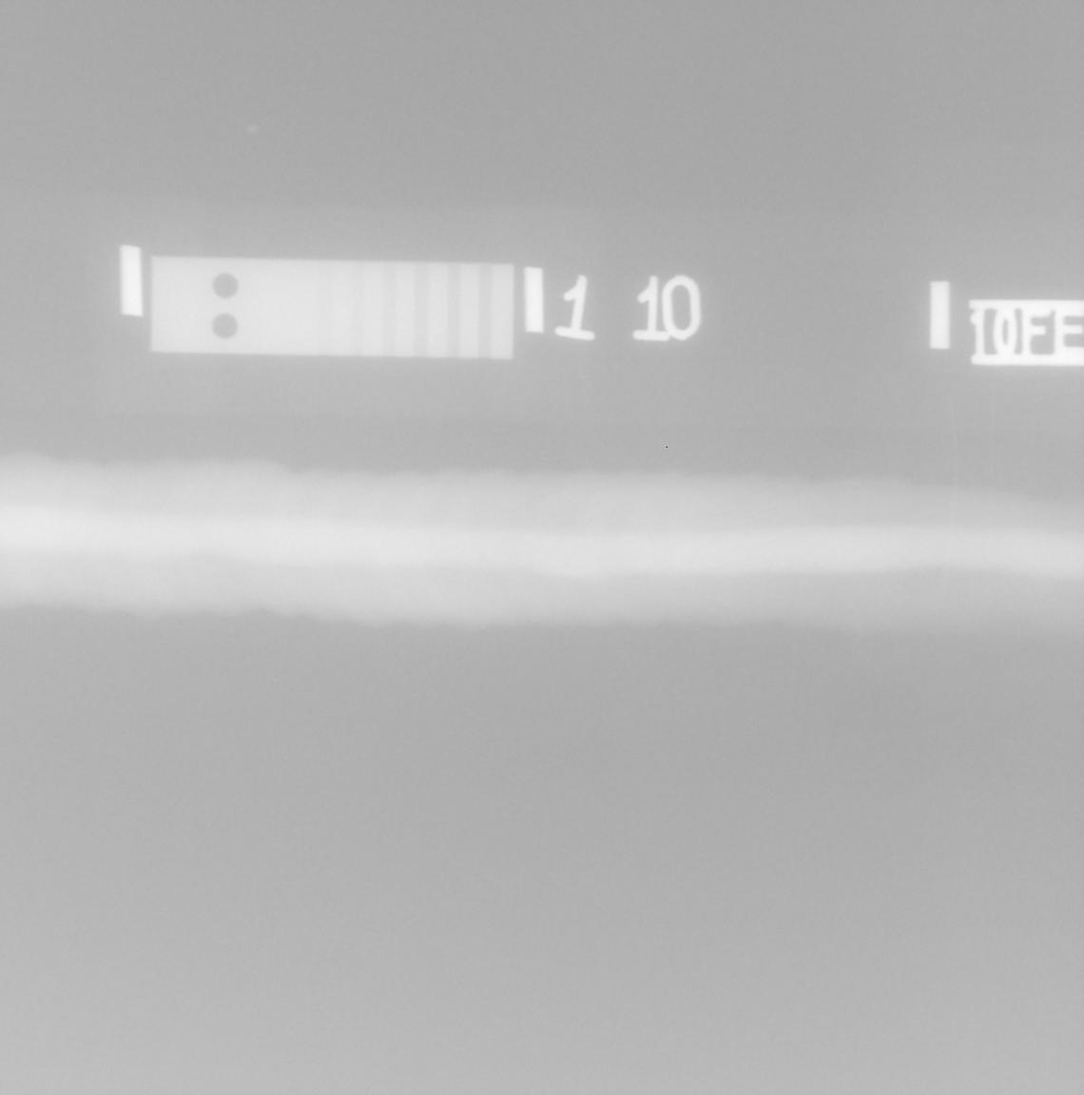Reference Standard 2: (150, 255, 515, 360)
